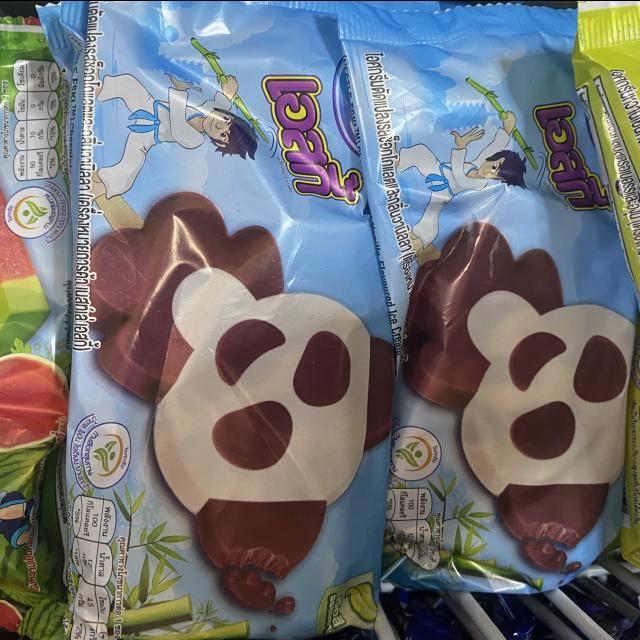plastik: (67, 0, 394, 640), (338, 0, 637, 592)
